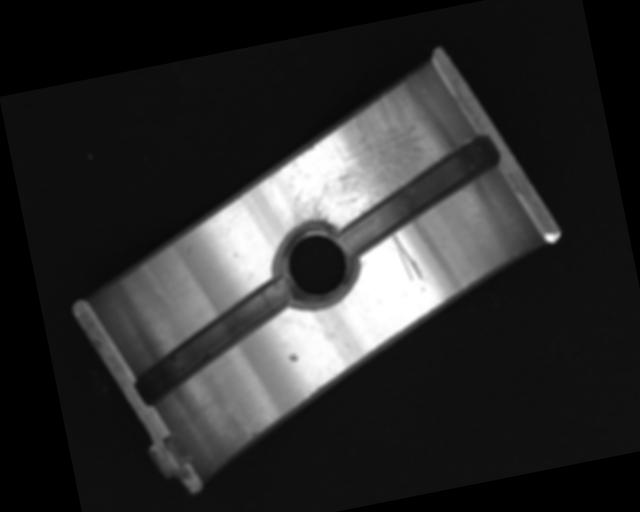bruise: (286, 350, 300, 363)
gap: (121, 274, 310, 405), (327, 132, 513, 257)
hole: (267, 215, 367, 312)
nick: (391, 228, 424, 284)
scratch: (261, 79, 437, 235)
